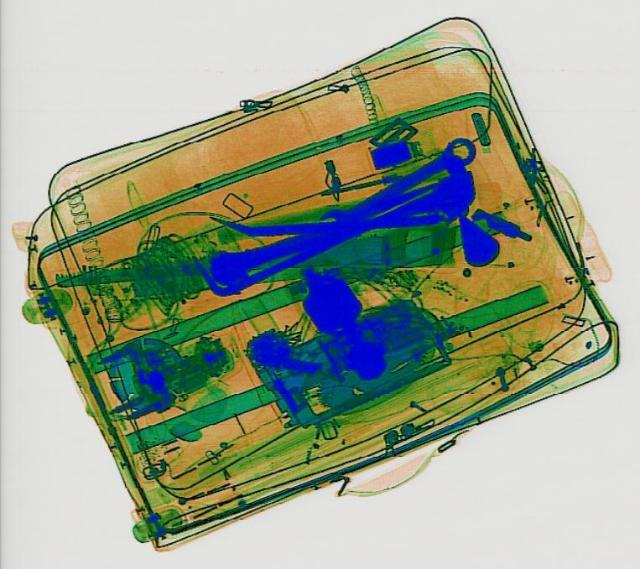Wrench: (315, 130, 485, 236)
